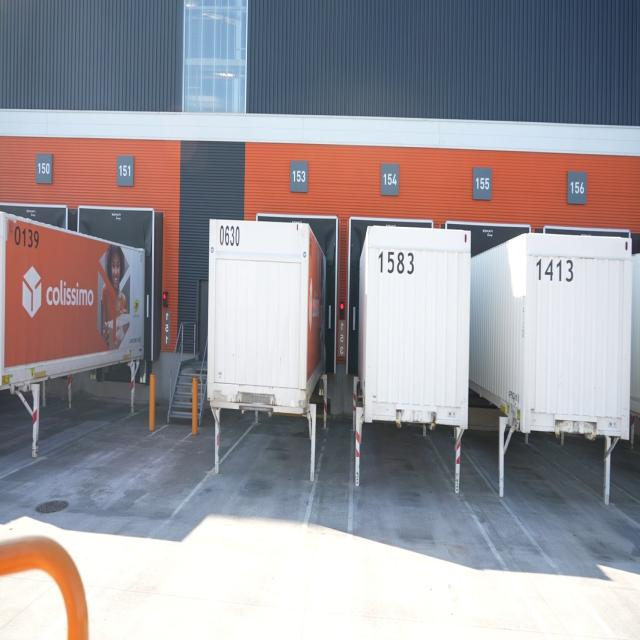Code: (533, 253, 575, 288), (377, 245, 415, 279), (9, 219, 43, 253), (217, 218, 243, 252)
